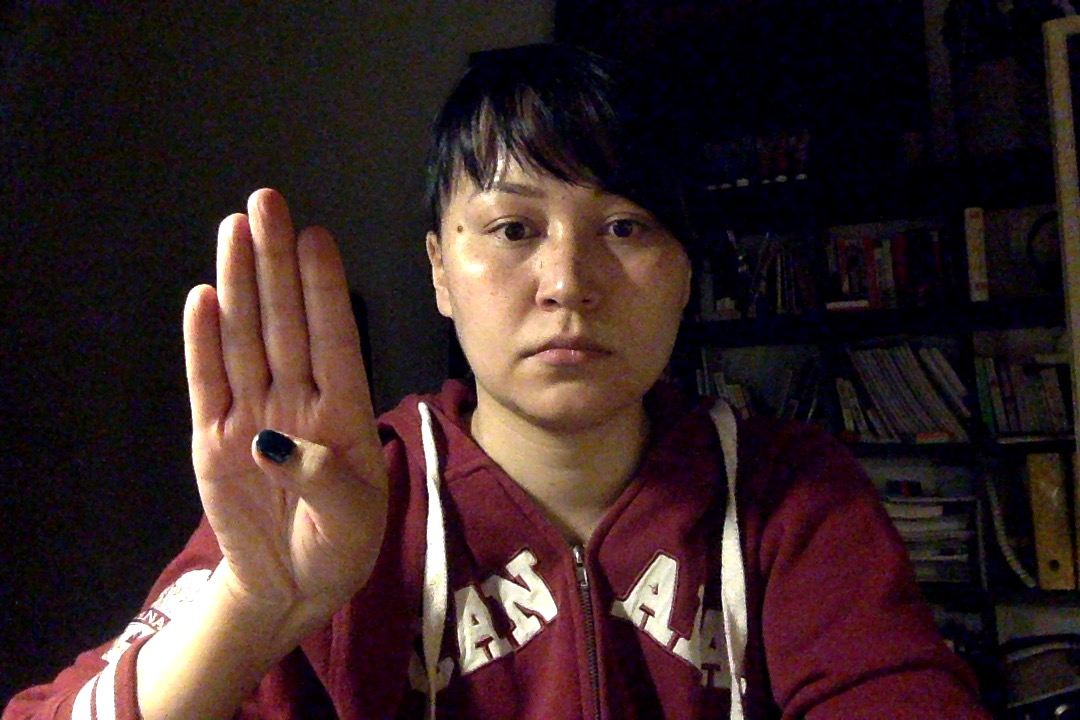b: (152, 173, 409, 619)
